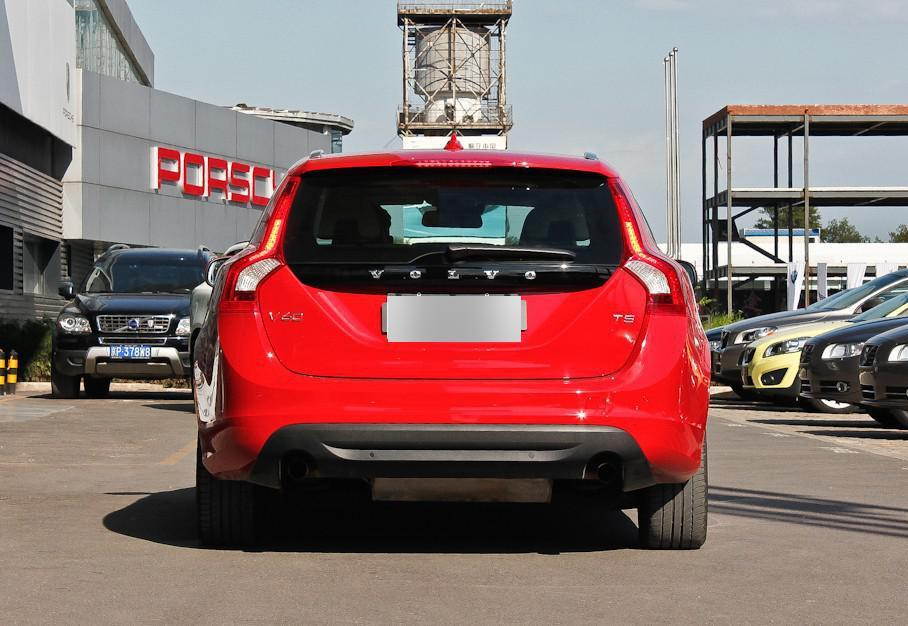Wagon: (190, 134, 712, 548)
